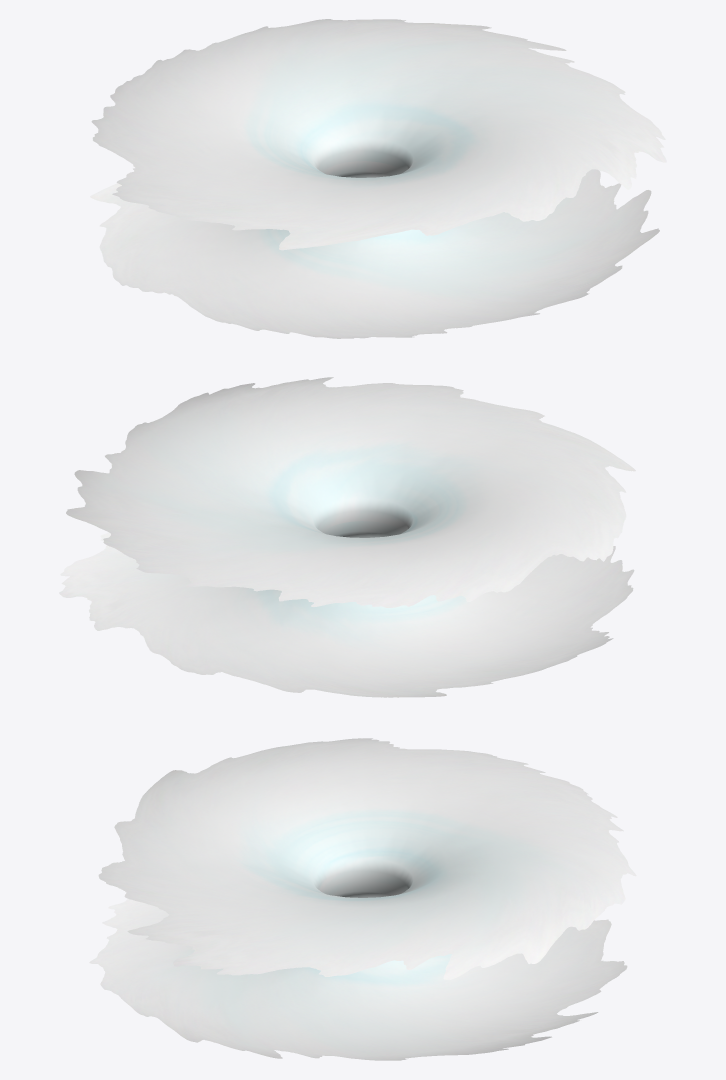
Rendered from Hurricane_Eye.fbx.
3 renders of one model, top to bottom at view 1: azimuth 30°, elevation 25°; view 2: azimuth 150°, elevation 25°; view 3: azimuth 270°, elevation 25°, orthographic.
Visible parts, largest first — view 1: mesh_hurricane_top, mesh_hurricane_top1; view 2: mesh_hurricane_top, mesh_hurricane_top1; view 3: mesh_hurricane_top, mesh_hurricane_top1.
Boxes of the visible parts, x1,y1,x2,y2 form: mesh_hurricane_top: (91, 19, 666, 250); mesh_hurricane_top1: (90, 161, 659, 338); mesh_hurricane_top: (66, 377, 635, 607); mesh_hurricane_top1: (59, 521, 634, 697); mesh_hurricane_top: (98, 738, 636, 979); mesh_hurricane_top1: (89, 881, 627, 1060).
Bounding box in the file's own units: 6.75 × 1.13 × 6.75.
